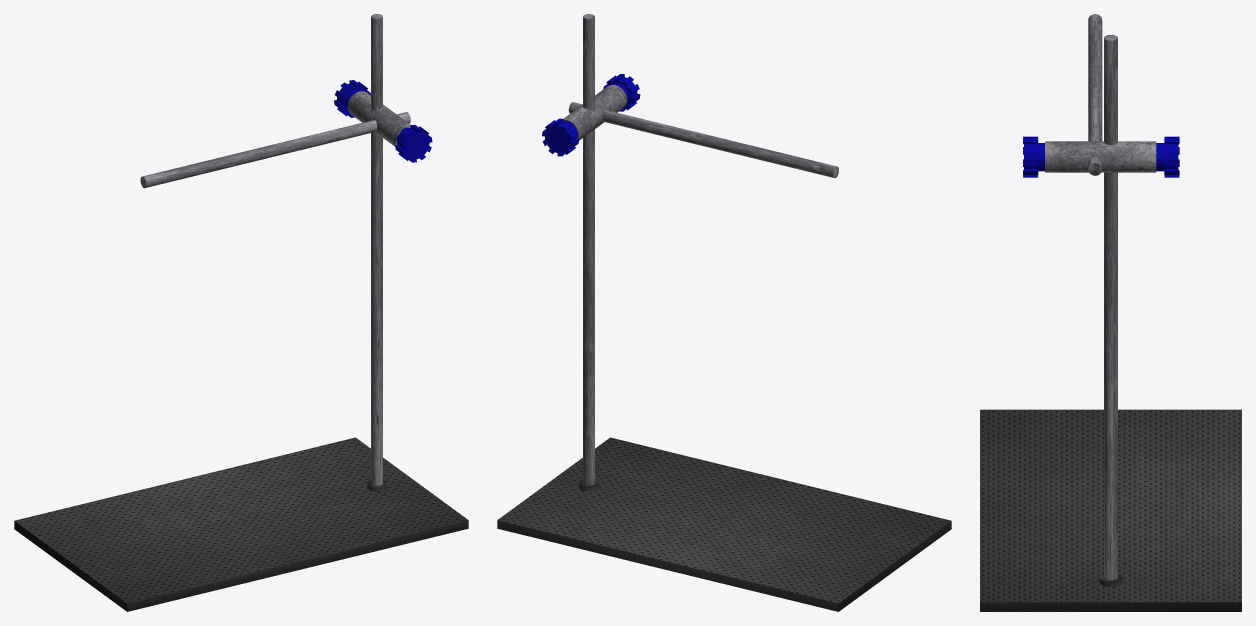
File: Laboratory_Retort_Stand.fbx
3 views of the same model, side by side, from view 1: azimuth 30°, elevation 25°; view 2: azimuth 150°, elevation 25°; view 3: azimuth 270°, elevation 25° (orthographic). The views are drawn at different scales.
Parts seen in each view (by area): view 1: Stand_Part_01, Stand_Part_03, Stand_Part_04, Stand_Part_05, Stand_Part_08; view 2: Stand_Part_01, Stand_Part_03, Stand_Part_04, Stand_Part_05, Stand_Part_09; view 3: Stand_Part_01, Stand_Part_03, Stand_Part_05, Stand_Part_04, Stand_Part_09, Stand_Part_08.
Part boxes in pixels (<box>): Stand_Part_01: <box>14,437,468,611</box>; Stand_Part_03: <box>371,14,382,485</box>; Stand_Part_04: <box>140,112,410,188</box>; Stand_Part_05: <box>347,91,410,146</box>; Stand_Part_08: <box>395,124,432,162</box>; Stand_Part_01: <box>497,437,951,611</box>; Stand_Part_03: <box>583,14,594,485</box>; Stand_Part_04: <box>568,102,838,178</box>; Stand_Part_05: <box>563,84,627,140</box>; Stand_Part_09: <box>542,118,579,156</box>; Stand_Part_01: <box>980,409,1241,611</box>; Stand_Part_03: <box>1104,35,1117,580</box>; Stand_Part_05: <box>1045,141,1156,172</box>; Stand_Part_04: <box>1088,14,1102,175</box>; Stand_Part_09: <box>1164,136,1179,177</box>; Stand_Part_08: <box>1023,136,1038,177</box>.
Bounding box in the file's own units: 0.5488 × 0.7362 × 0.315.
3 materials, 2 textured.
